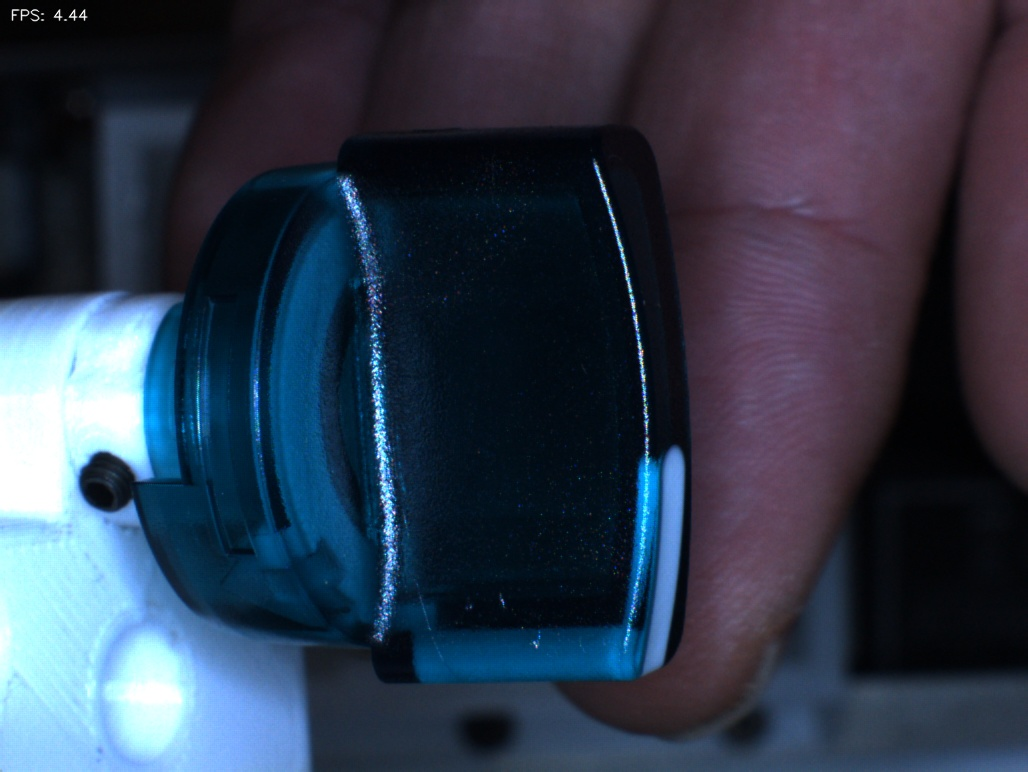Givrage: (486, 570, 567, 664)
